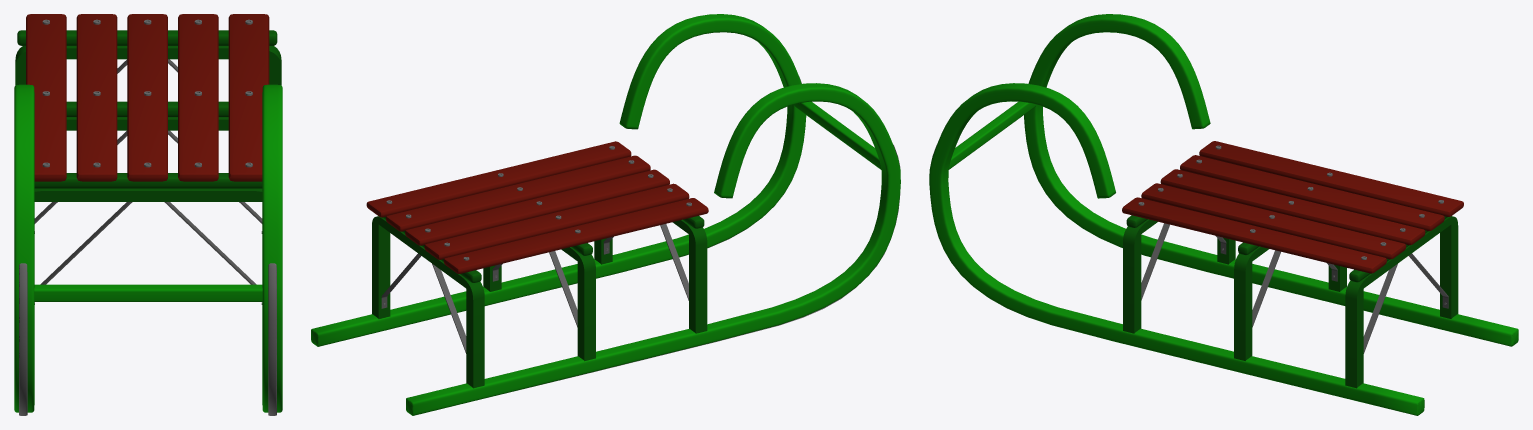
The model's file is sledges.fbx.
3 renders of one model, left to right at view 1: azimuth 30°, elevation 25°; view 2: azimuth 150°, elevation 25°; view 3: azimuth 270°, elevation 25°, orthographic. The views are drawn at different scales.
Visible parts, largest first — view 1: Line003, Box008, Box007, Box006, Box005, Box009, Object007, Object001, Box001, Line008, Object004, Cylinder006; view 2: Line003, Object007, Box009, Box005, Box008, Box007, Box006, Object004, Object001, Box001; view 3: Line003, Object007, Box005, Box007, Box006, Box008, Box009, Object004, Object001, Box001.
Part boxes in pixels (<box>): Line003: <box>14,84,282,412</box>; Box008: <box>76,14,117,181</box>; Box007: <box>127,14,167,181</box>; Box006: <box>178,14,218,181</box>; Box005: <box>228,14,269,181</box>; Box009: <box>26,14,66,181</box>; Object007: <box>15,45,281,201</box>; Object001: <box>34,284,262,301</box>; Box001: <box>17,30,277,188</box>; Line008: <box>19,263,276,415</box>; Object004: <box>34,59,262,284</box>; Cylinder006: <box>34,19,262,304</box>; Line003: <box>311,14,900,415</box>; Object007: <box>372,216,707,388</box>; Box009: <box>443,198,708,273</box>; Box005: <box>366,141,631,217</box>; Box008: <box>424,183,689,259</box>; Box007: <box>405,169,669,245</box>; Box006: <box>386,155,650,231</box>; Object004: <box>381,224,688,353</box>; Object001: <box>794,101,881,169</box>; Box001: <box>383,216,704,282</box>; Line003: <box>929,14,1518,415</box>; Object007: <box>1123,216,1458,388</box>; Box005: <box>1122,197,1386,273</box>; Box007: <box>1160,169,1425,245</box>; Box006: <box>1141,183,1406,259</box>; Box008: <box>1180,155,1444,231</box>; Box009: <box>1199,141,1463,216</box>; Object004: <box>1141,223,1448,353</box>; Object001: <box>948,101,1035,169</box>; Box001: <box>1126,215,1447,282</box>.
Bounding box in the file's own units: 62.99 × 35.53 × 81.06.
